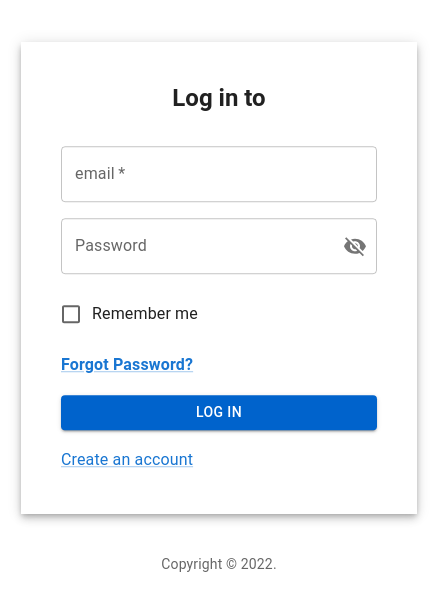
Testing login › Error is displayed on invalid account
Click the button "Log in". click: (219, 413)
box: x1=61 y1=395 x2=377 y2=430
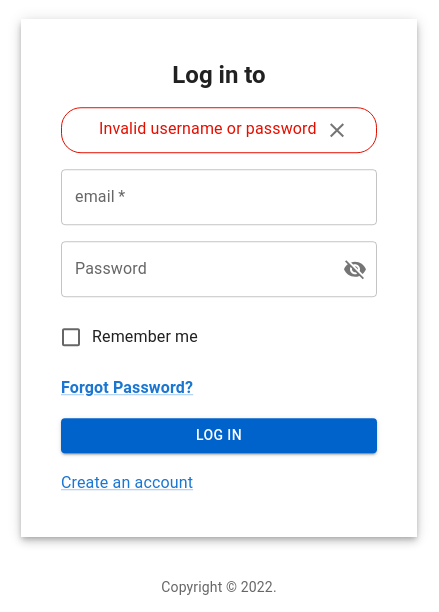
Result: the text "Invalid username or password" is shown at x1=67 y1=113 x2=317 y2=141
